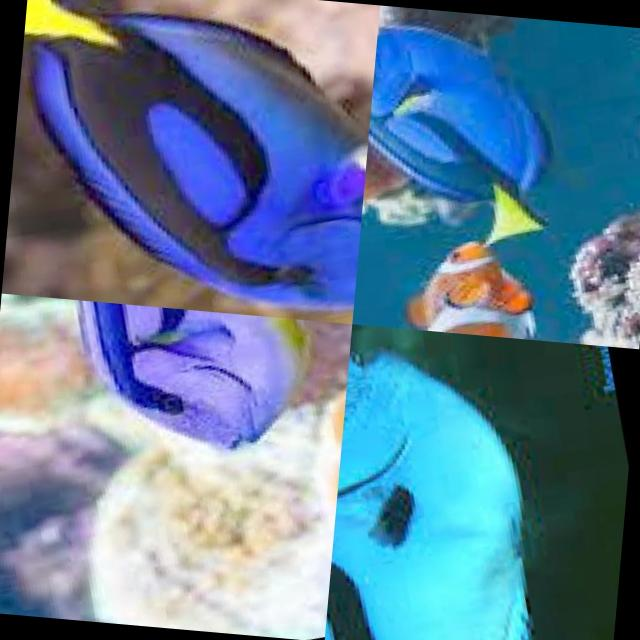BlueTang: (1, 0, 380, 322), (324, 322, 639, 640), (0, 292, 352, 507), (355, 4, 593, 304)
